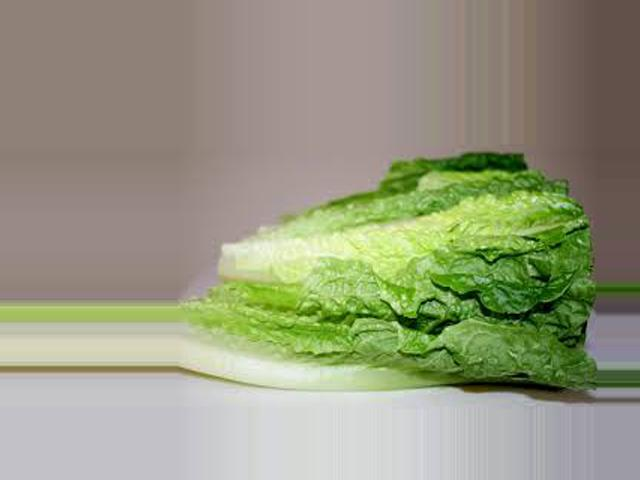lettuce: (197, 180, 599, 401)
